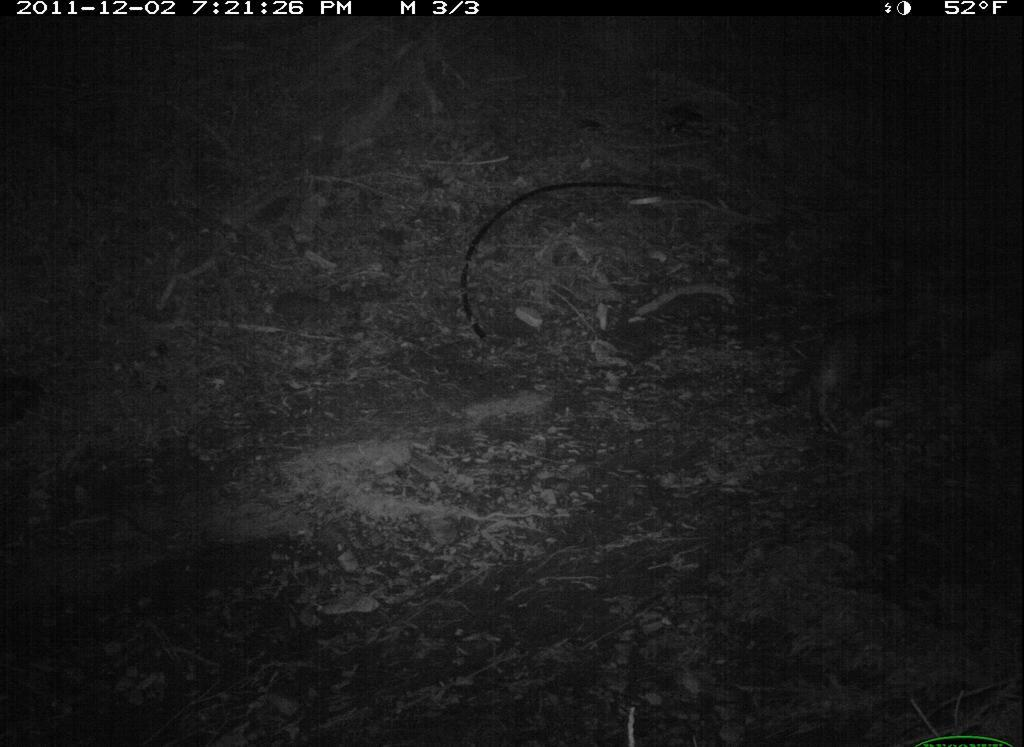cat: (765, 295, 934, 440)
